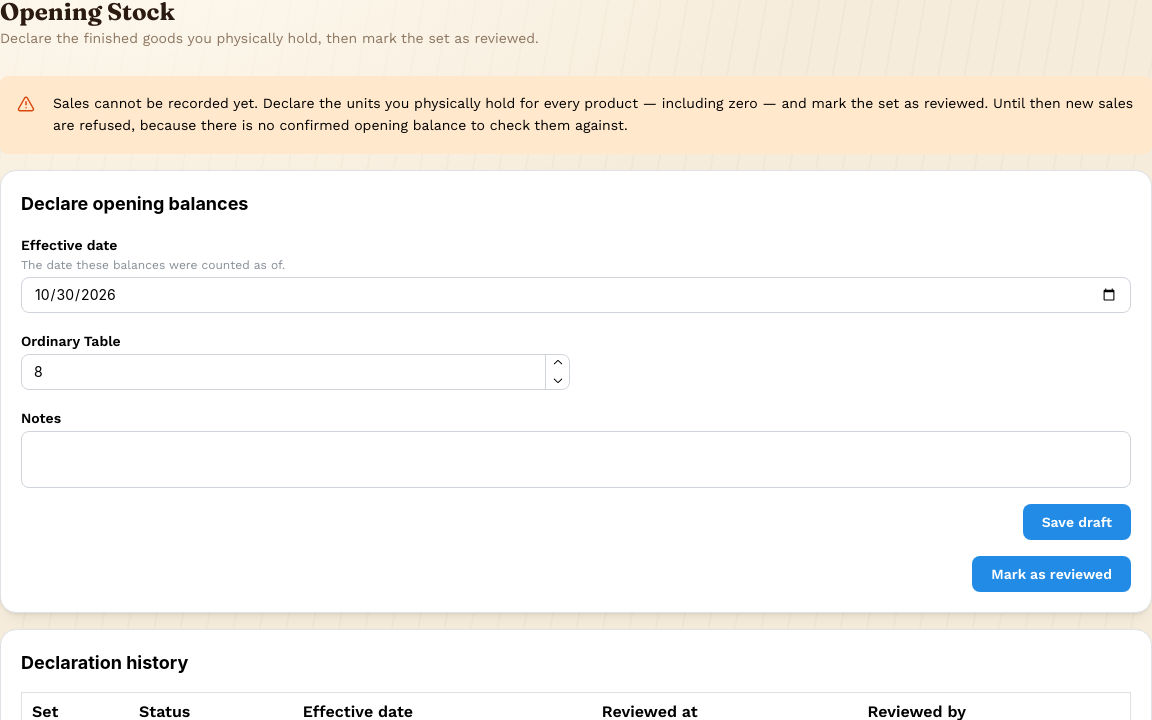
OpeningInventoryPage › requires confirmation before reviewing
Later steps or results of the test are not shown.
Step 1. Click the button "Mark as reviewed" → (1052, 574), box top-left (972, 556), bottom-right (1131, 592)
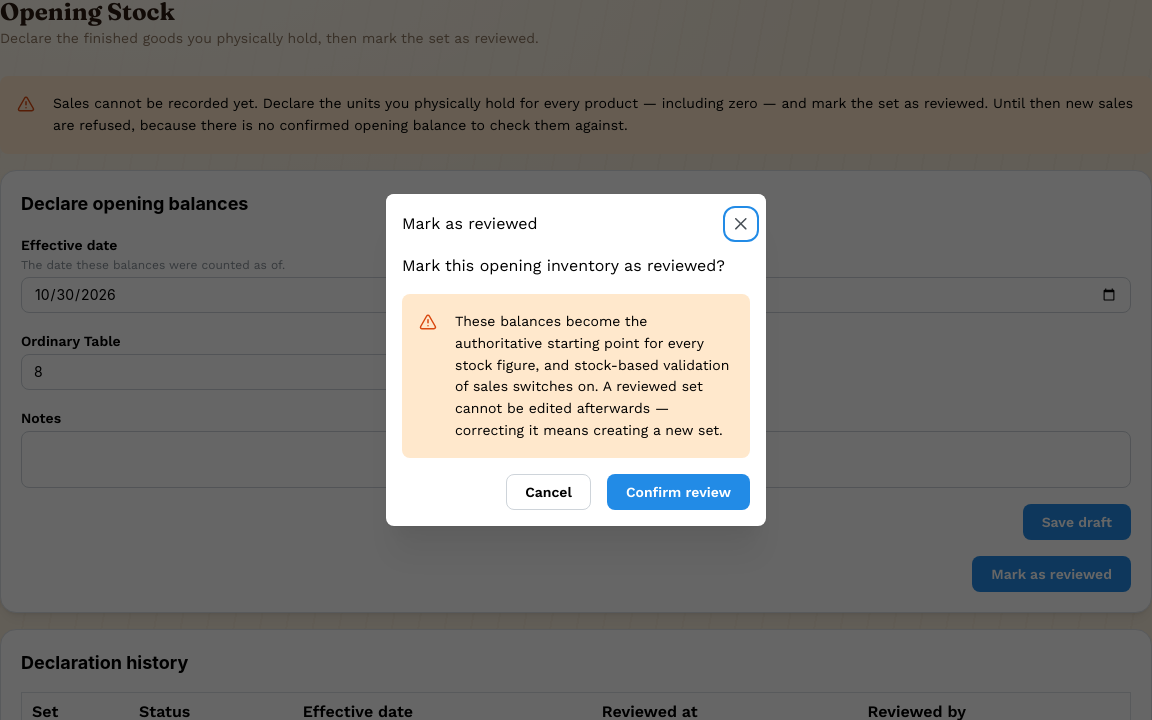
Result: the text "cannot be edited afterwards" is shown at top-left (455, 313), bottom-right (729, 438)
